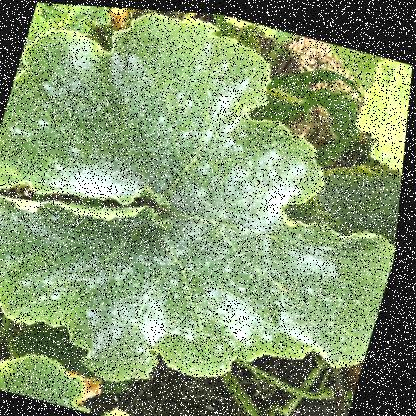PowderyMildew: (47, 19, 230, 216), (116, 205, 292, 368), (165, 123, 304, 311), (13, 202, 170, 327)
